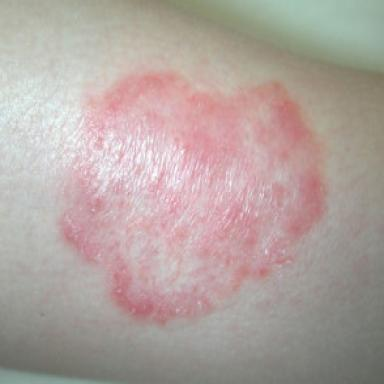Tinea-Corporis: (62, 73, 324, 322)
